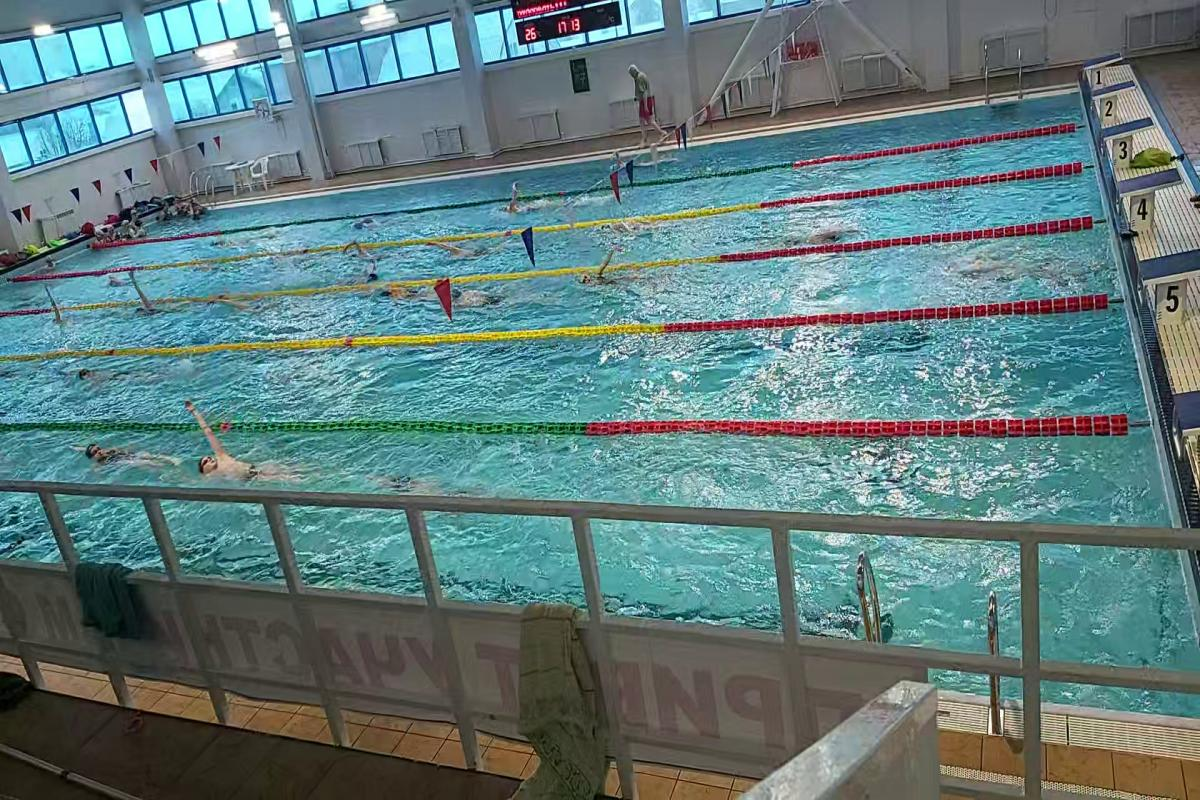swimmer: (176, 407, 306, 490), (60, 435, 172, 481), (568, 244, 639, 292), (421, 233, 503, 266), (123, 264, 163, 318), (58, 358, 113, 384), (377, 278, 432, 303), (501, 180, 531, 222), (342, 238, 388, 261)
